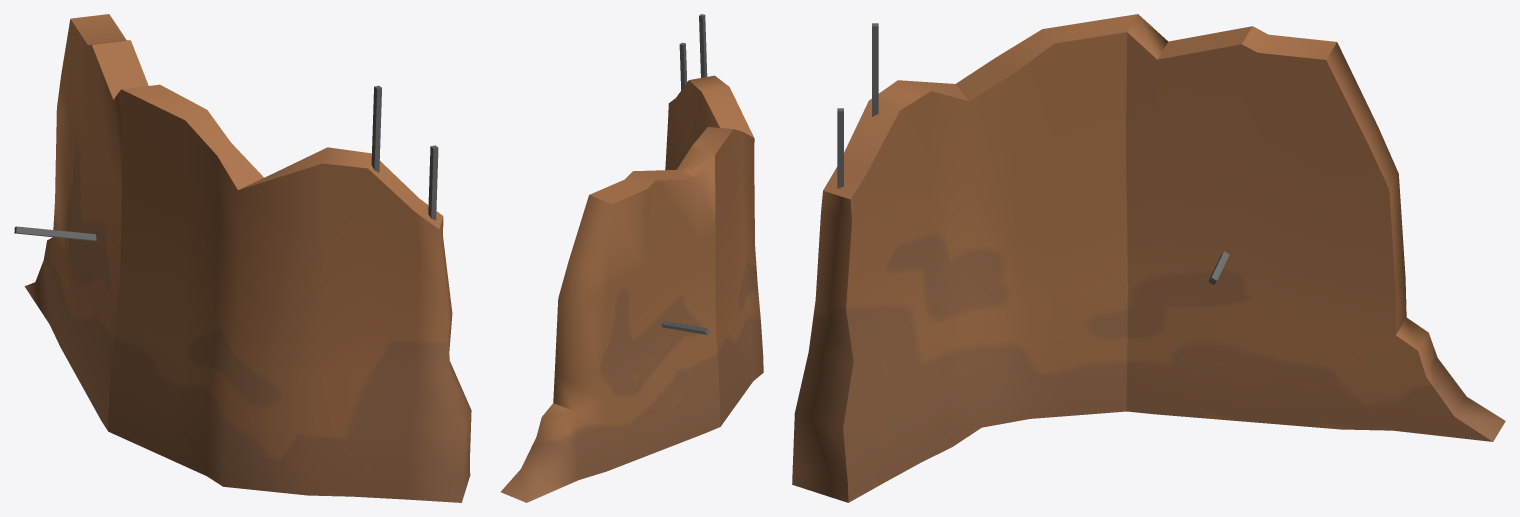
The model's file is Mur1fbx.fbx.
3 renders of one model, left to right at view 1: azimuth 30°, elevation 25°; view 2: azimuth 150°, elevation 25°; view 3: azimuth 270°, elevation 25°, orthographic. The views are drawn at different scales.
Parts seen in each view (by area): view 1: Cube.098; view 2: Cube.098; view 3: Cube.098.
Part boxes in pixels (bbox=[...]): Cube.098: bbox=[14, 14, 471, 502]; Cube.098: bbox=[500, 14, 763, 502]; Cube.098: bbox=[792, 14, 1505, 502].
Size of the model in its own units: 395 by 567 by 841.
